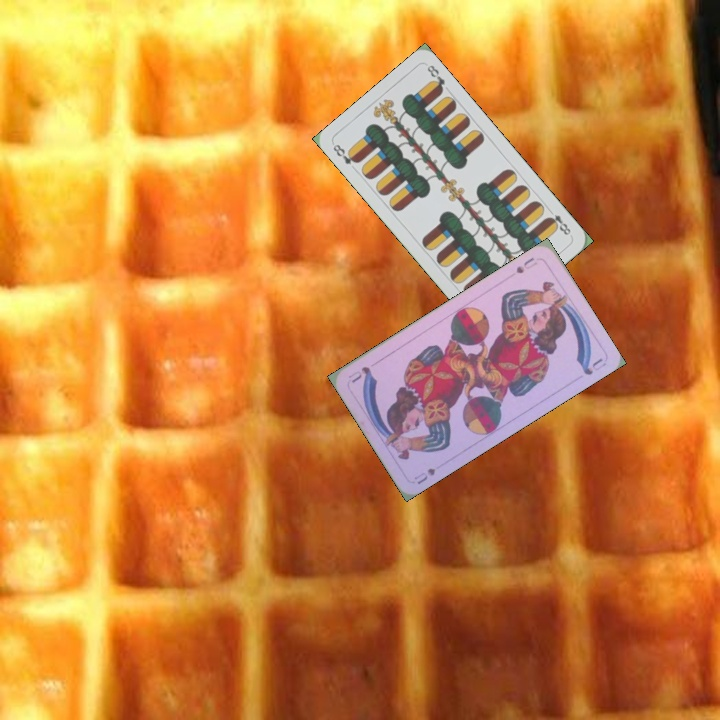E8: (543, 205, 573, 238), (329, 140, 361, 167)
SU: (410, 464, 438, 487), (512, 253, 540, 276)
